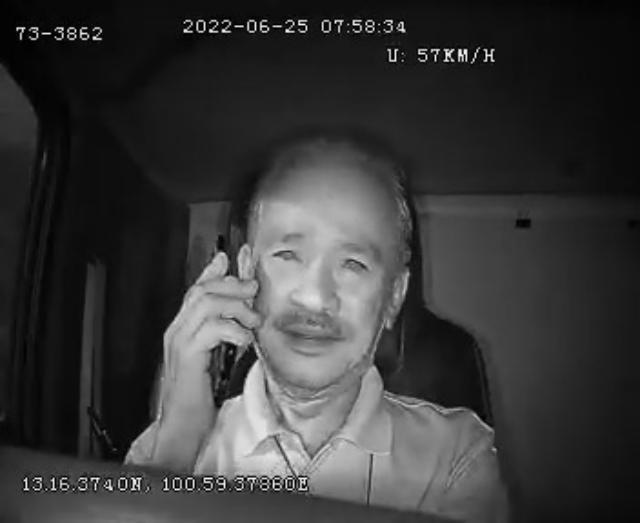PhoneUse: (203, 230, 239, 415)
SafeDriving: (264, 234, 308, 271), (333, 244, 376, 281)
